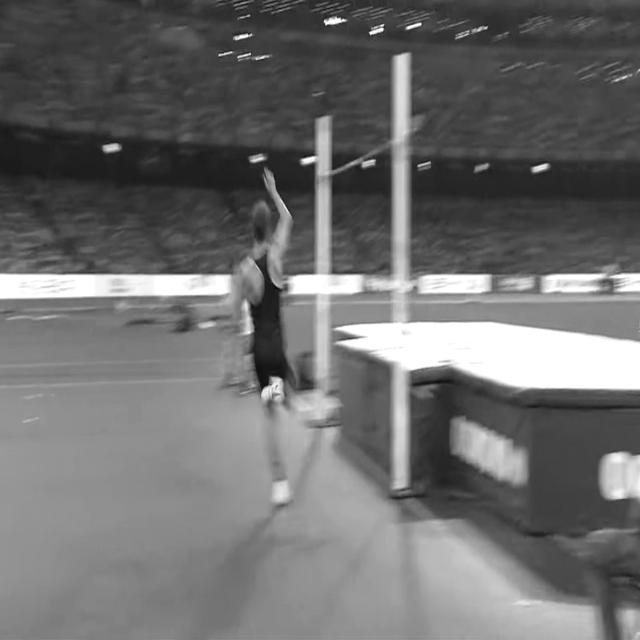jump: (235, 169, 293, 499)
